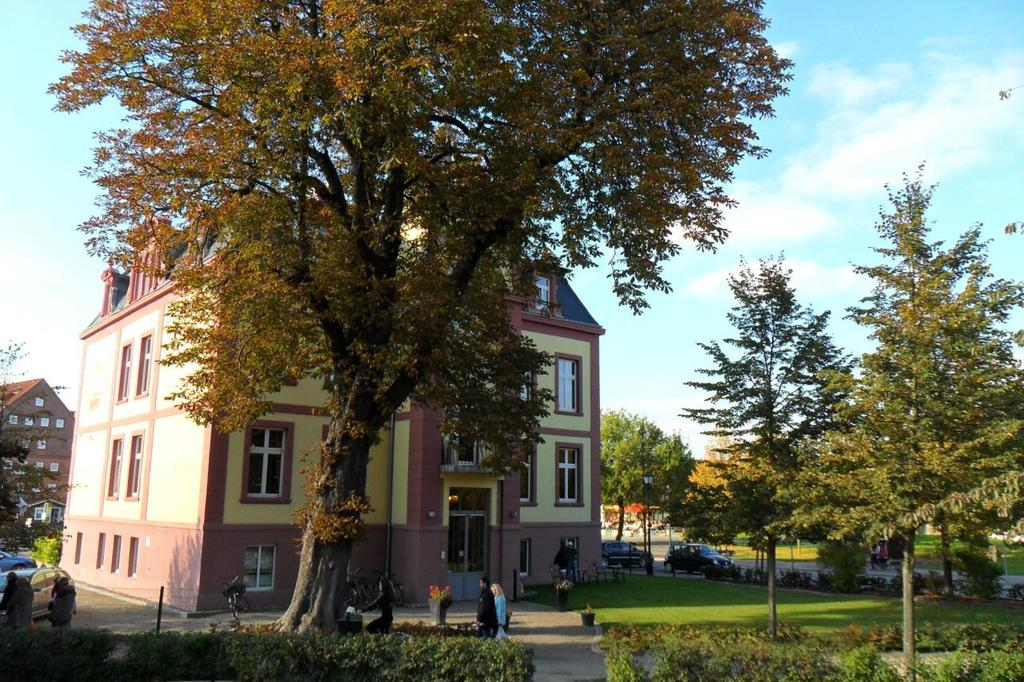tree: (43, 1, 796, 639), (789, 157, 1024, 682)
